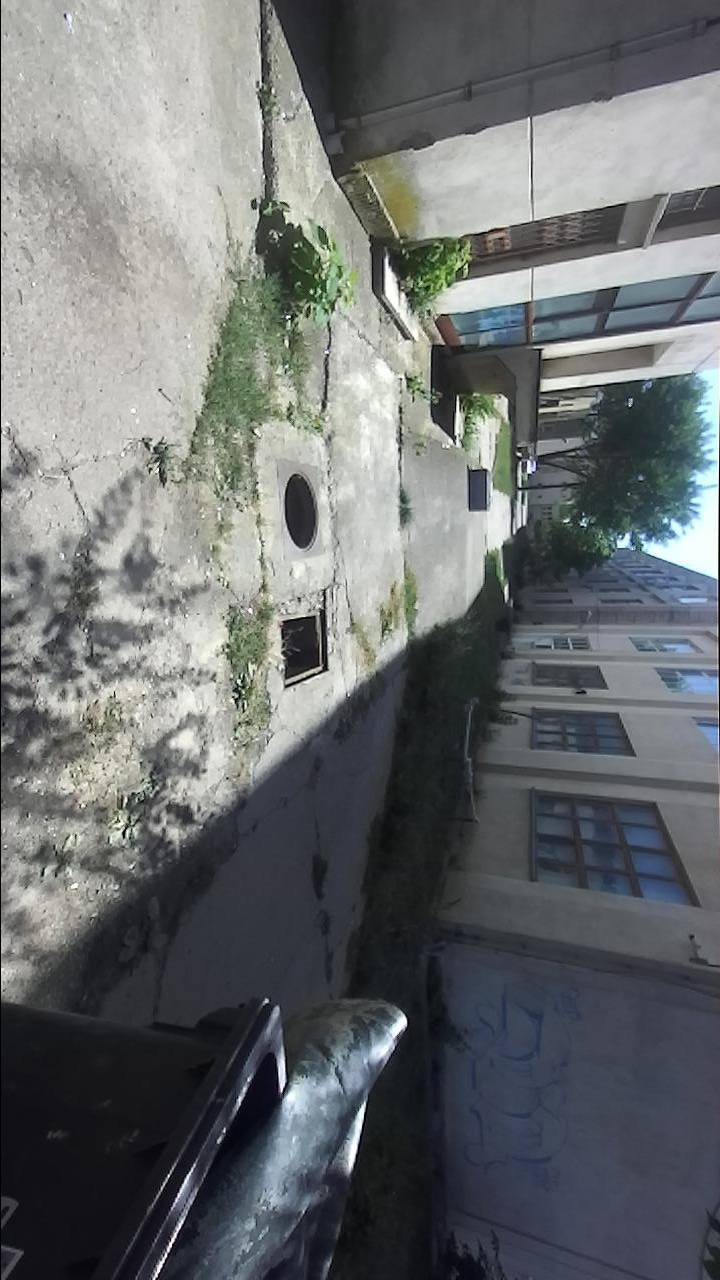drain: (277, 590, 326, 691), (284, 467, 319, 556)
